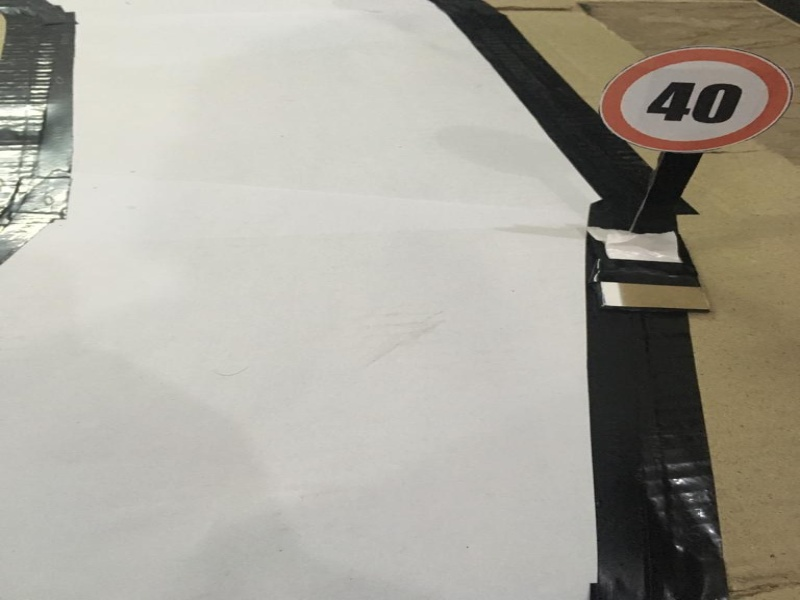Speed Limit 40: (602, 44, 795, 152)
